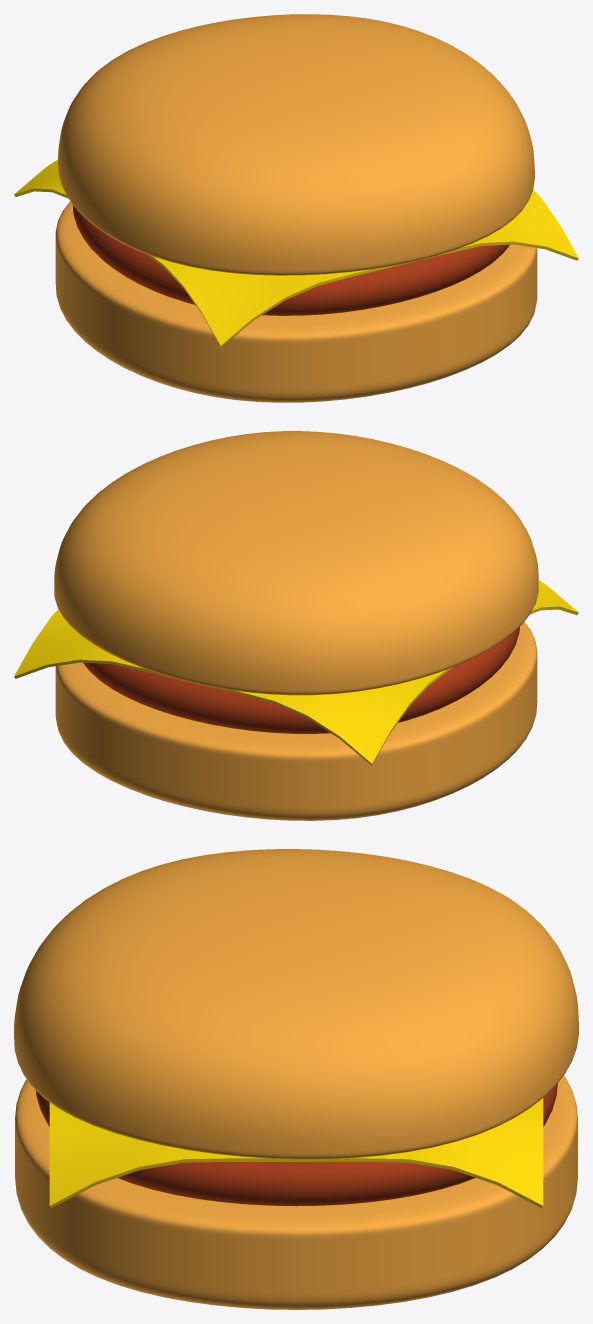
Rendered from hamburger.glb.
3 renders of one model, top to bottom at view 1: azimuth 30°, elevation 25°; view 2: azimuth 150°, elevation 25°; view 3: azimuth 270°, elevation 25°, orthographic. The views are drawn at different scales.
Visible parts, largest first — view 1: Cube.003, Cube.001, Plane, Cube.002; view 2: Cube.003, Cube.001, Plane, Cube.002; view 3: Cube.003, Cube.001, Plane, Cube.002.
Part boxes in pixels (box(x1,y1,x2,y2)): Cube.003: box(58, 14, 534, 275); Cube.001: box(55, 201, 537, 402); Plane: box(14, 159, 578, 347); Cube.002: box(72, 205, 509, 315); Cube.003: box(54, 431, 538, 695); Cube.001: box(55, 622, 537, 820); Plane: box(14, 580, 578, 765); Cube.002: box(83, 627, 519, 733); Cube.003: box(14, 849, 578, 1159); Cube.001: box(15, 1075, 577, 1309); Plane: box(49, 1098, 543, 1208); Cube.002: box(35, 1083, 557, 1206).
Size of the model in its own units: 9.2 by 5.33 by 9.2.
